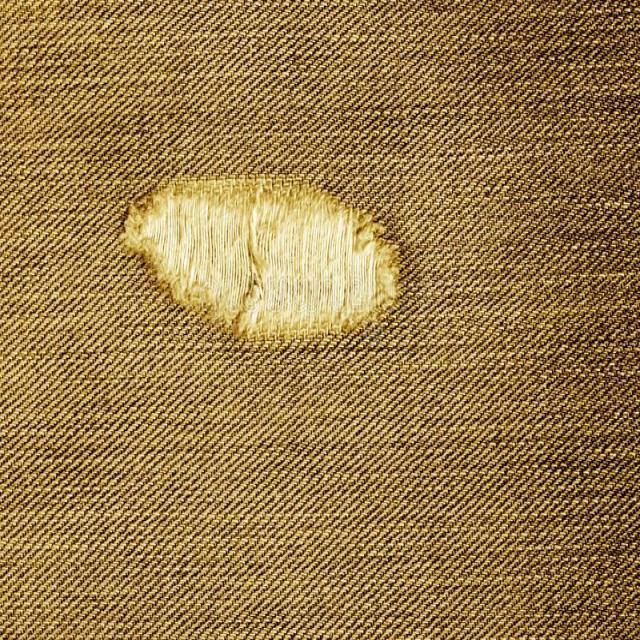Hole: (124, 179, 399, 339)
